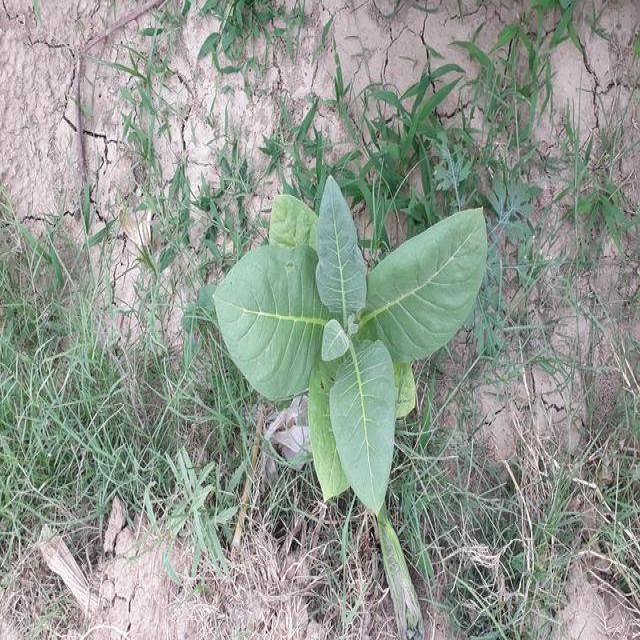crop: (219, 186, 483, 521)
